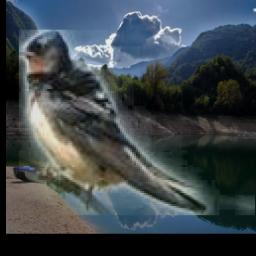Swallow: (19, 30, 255, 215)
